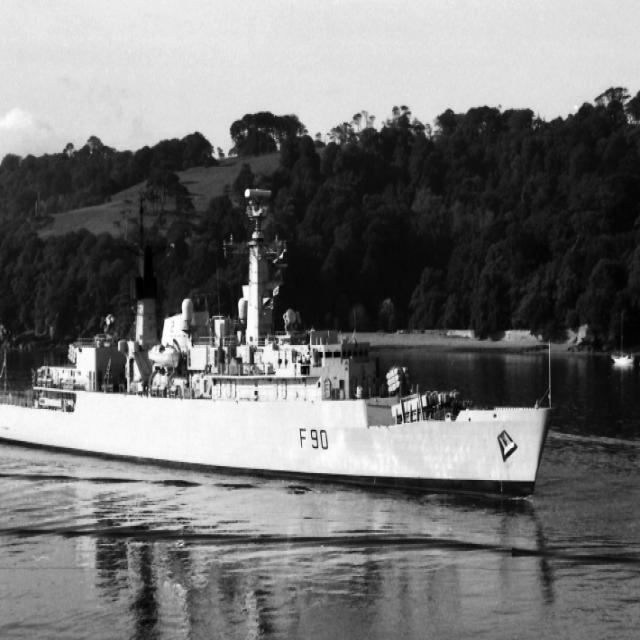Fragata: (1, 179, 559, 503)
